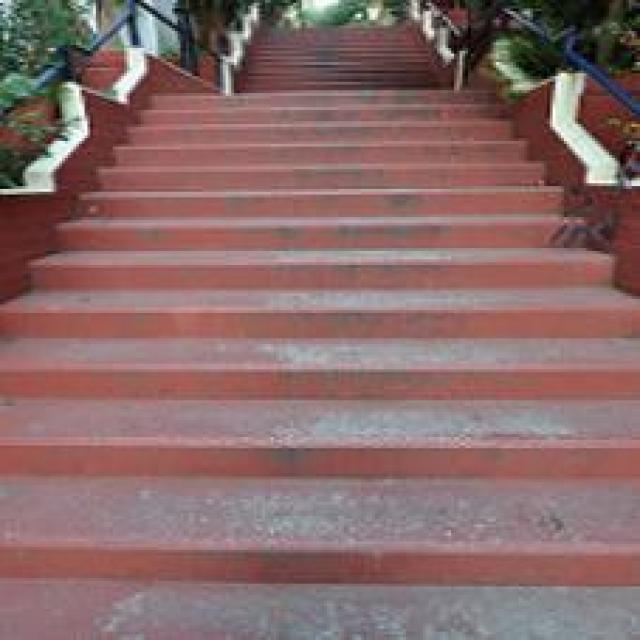upstair: (24, 201, 621, 613)
